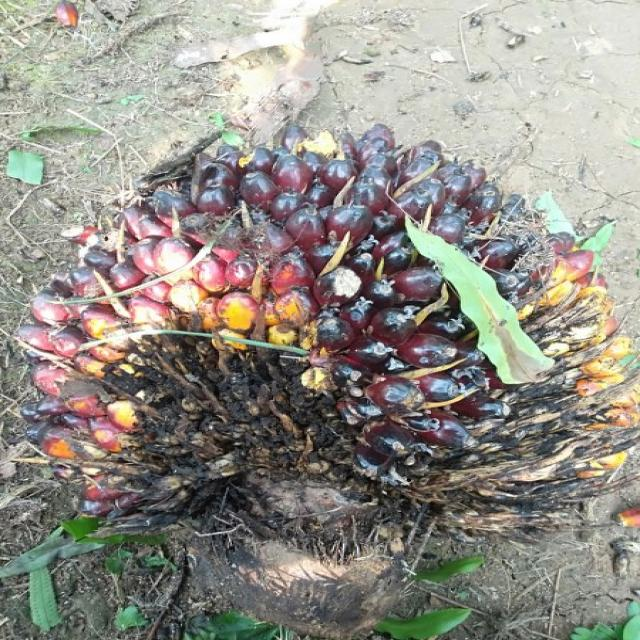fraksi 1: (0, 104, 633, 608)
